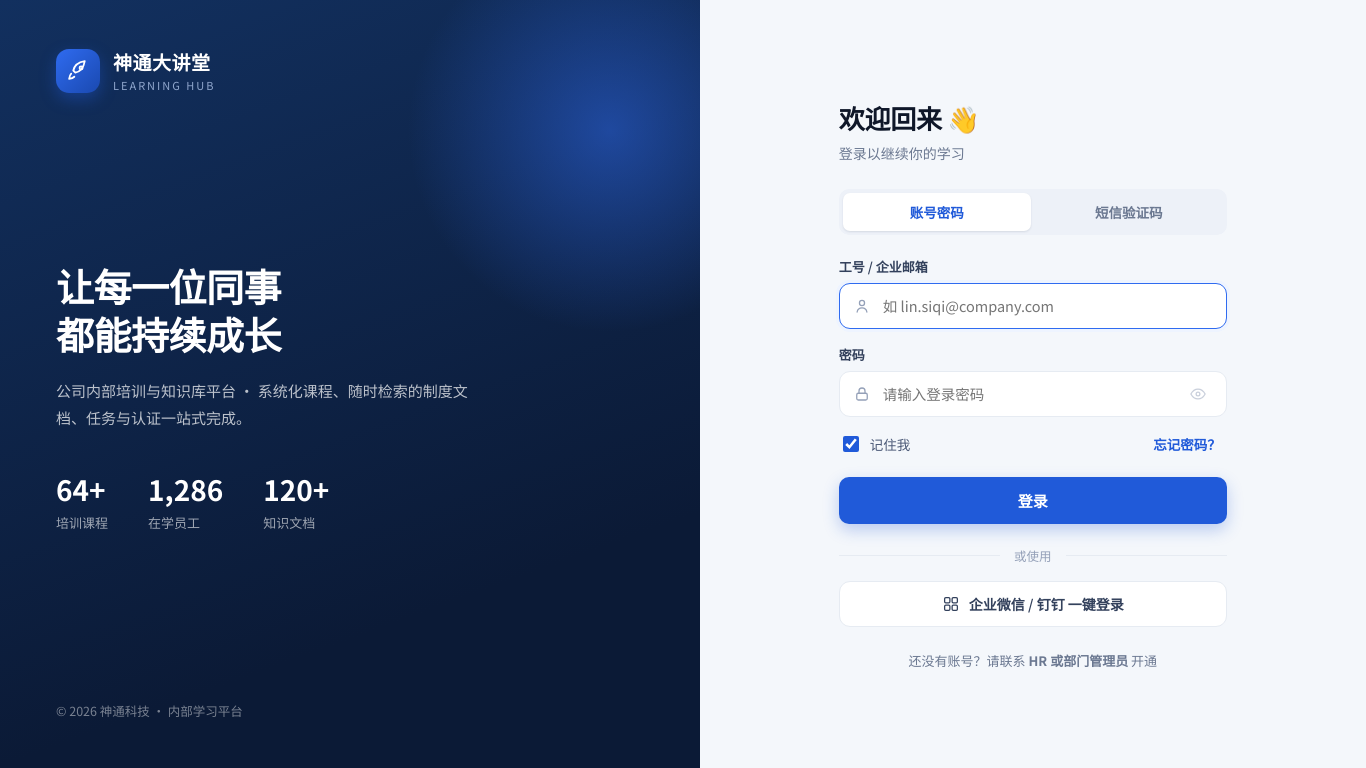
Test: LoginPage › surfaces server error and does not call onLogin
The width and height of the screenshot is (1366, 768).
In the field with placeholder "如 lin.siqi@company.com": (1047, 306) left=881, top=284, right=1213, bottom=328, type "a@b.com"
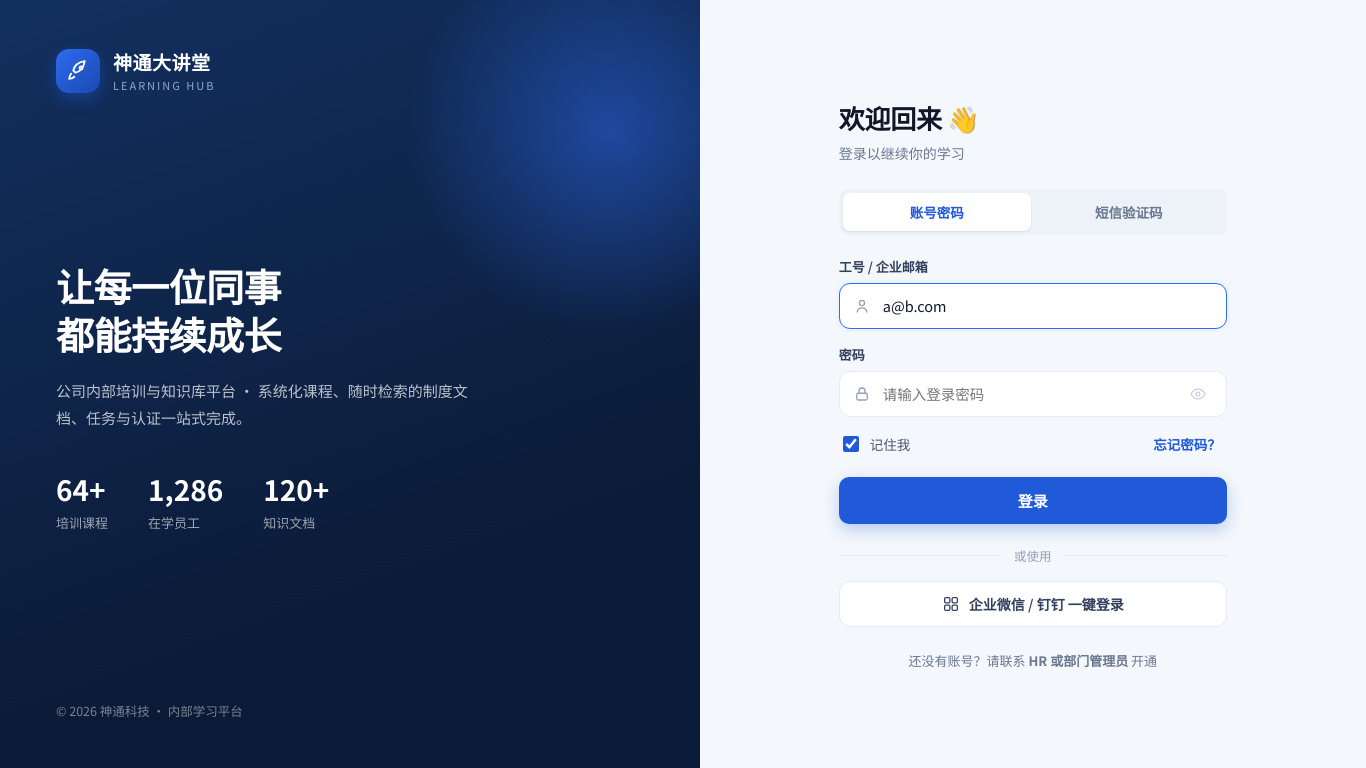
In the password field with placeholder "请输入登录密码": (1027, 394) left=881, top=372, right=1173, bottom=416, type "wrong"
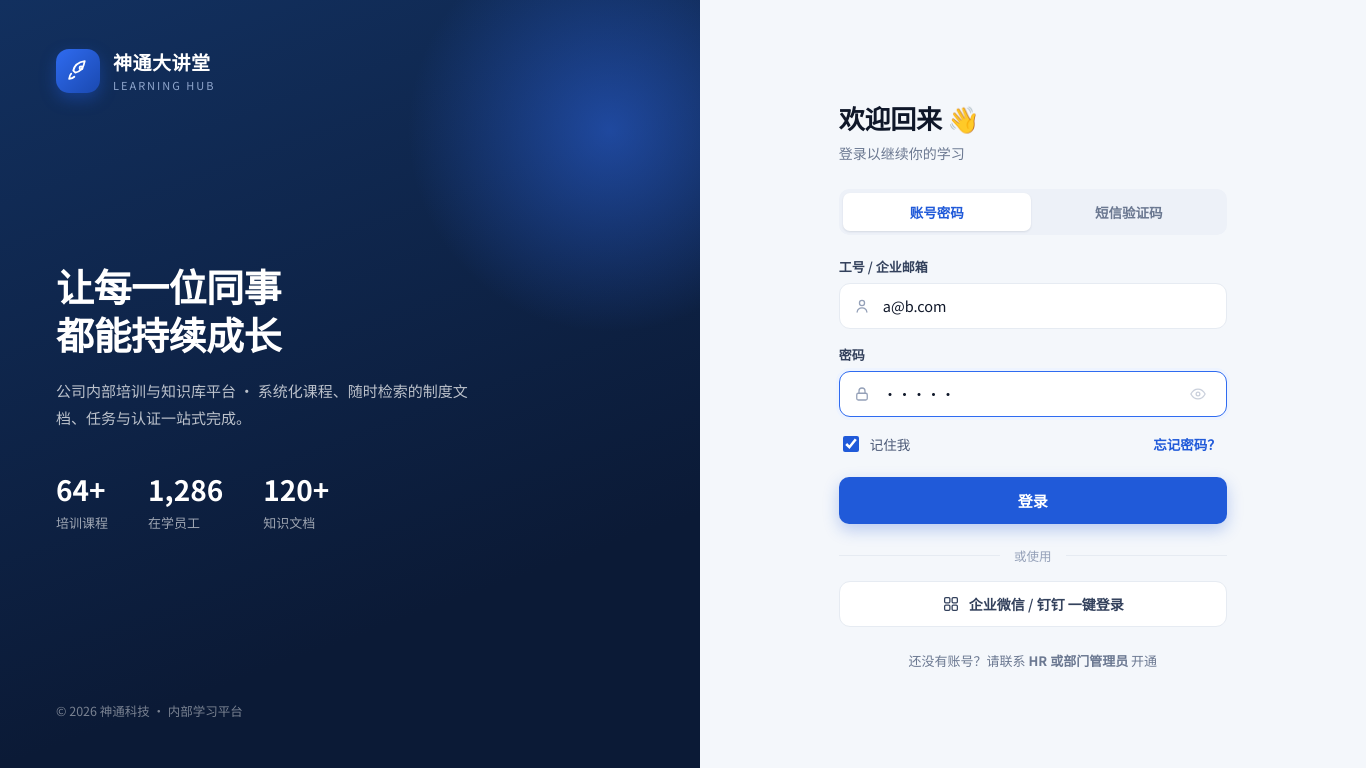
Click the button "登录": click(1033, 500) left=839, top=476, right=1227, bottom=524
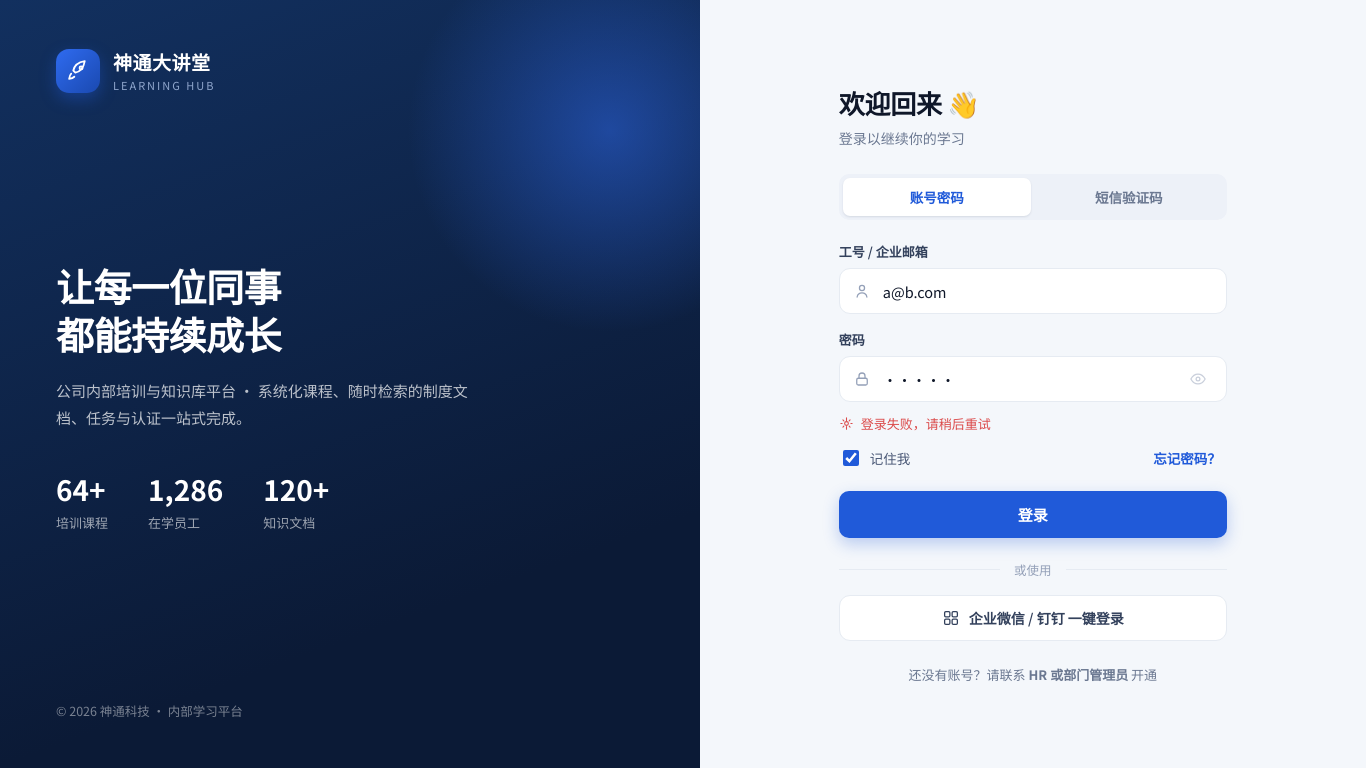
Expected: the text "登录失败，请稍后重试" is shown, left=839, top=414, right=991, bottom=433
